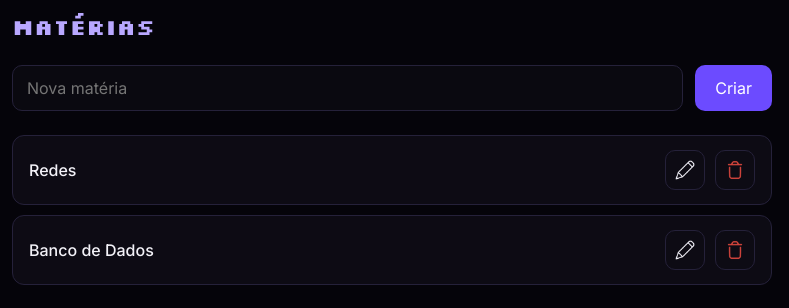
Scenario: SubjectsPage › renomeia uma matéria
Expected: the link "Redes" is shown, [29,160,76,180]
Click the button named "Renomear Redes" at coordinates (685, 170), box [665,150,705,190]
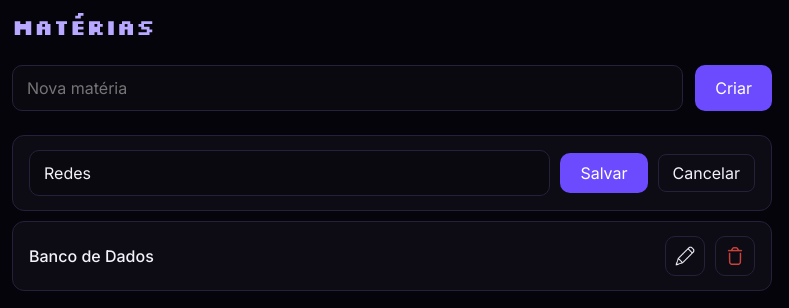
Replace the text in the field named "Título da matéria" with "Redes de Computadores" at coordinates (290, 173), box [29,150,550,196]
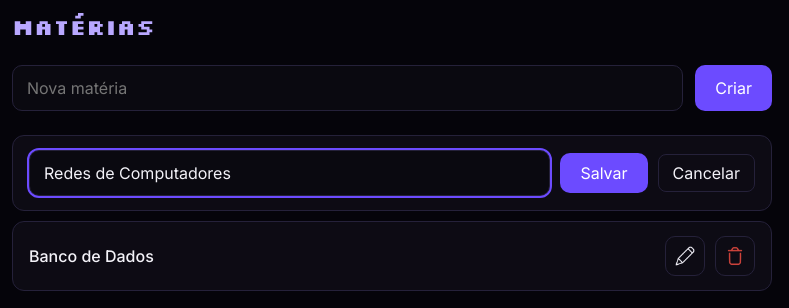
Click the button "Salvar" at coordinates (604, 173), box [560,153,648,193]
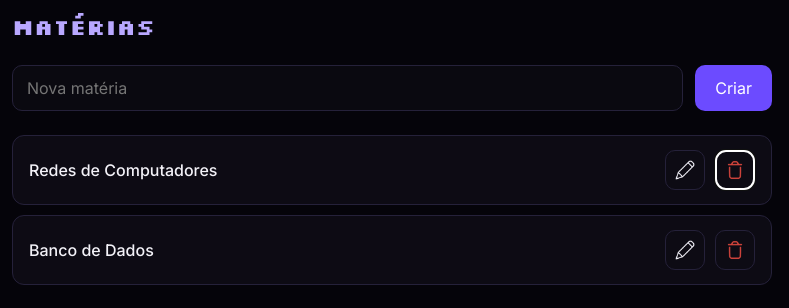
Expected: the link "Redes de Computadores" is shown, [29,160,218,180]
